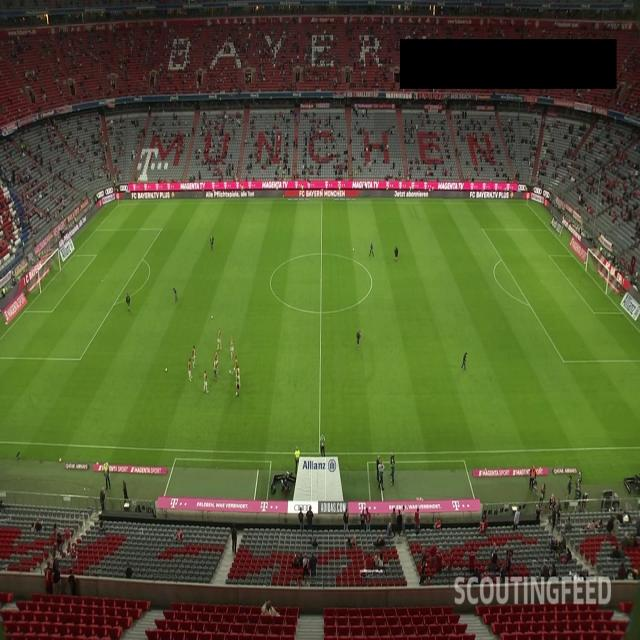ball: (164, 364, 168, 374), (210, 313, 214, 322), (352, 245, 355, 254), (229, 368, 232, 375)
player: (203, 368, 210, 393), (191, 343, 197, 368), (229, 336, 235, 356), (236, 374, 241, 398), (218, 326, 223, 348), (214, 348, 219, 368), (233, 354, 238, 374), (213, 361, 218, 381), (189, 357, 192, 382), (237, 366, 240, 384)
